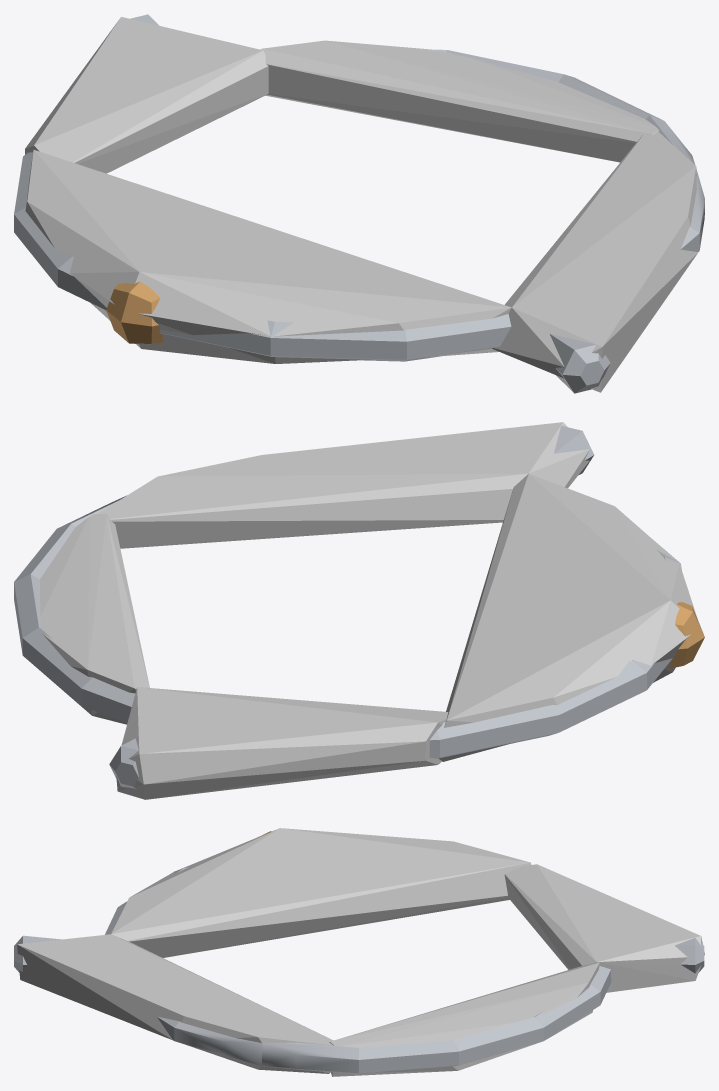
The model's file is SM_Prop_Constellation_Rings_01_Ring_01.fbx.
3 renders of one model, top to bottom at view 1: azimuth 30°, elevation 25°; view 2: azimuth 150°, elevation 25°; view 3: azimuth 270°, elevation 25°, orthographic. The views are drawn at different scales.
Visible parts, largest first — view 1: SM_Prop_Constellation_Rings_01_Ring_01_ConvexHulls, SM_Prop_Constellation_Rings_01_Ring_01; view 2: SM_Prop_Constellation_Rings_01_Ring_01_ConvexHulls, SM_Prop_Constellation_Rings_01_Ring_01; view 3: SM_Prop_Constellation_Rings_01_Ring_01_ConvexHulls, SM_Prop_Constellation_Rings_01_Ring_01.
Boxes of the visible parts, x1=… form: SM_Prop_Constellation_Rings_01_Ring_01_ConvexHulls: x1=25, y1=17, x2=698, y2=392; SM_Prop_Constellation_Rings_01_Ring_01: x1=14, y1=14, x2=704, y2=393; SM_Prop_Constellation_Rings_01_Ring_01_ConvexHulls: x1=39, y1=422, x2=697, y2=799; SM_Prop_Constellation_Rings_01_Ring_01: x1=14, y1=425, x2=704, y2=788; SM_Prop_Constellation_Rings_01_Ring_01_ConvexHulls: x1=17, y1=828, x2=704, y2=1076; SM_Prop_Constellation_Rings_01_Ring_01: x1=14, y1=831, x2=704, y2=1074.
Size of the model in its own units: 140 by 185 by 16.61.
2 materials, 1 textured.
